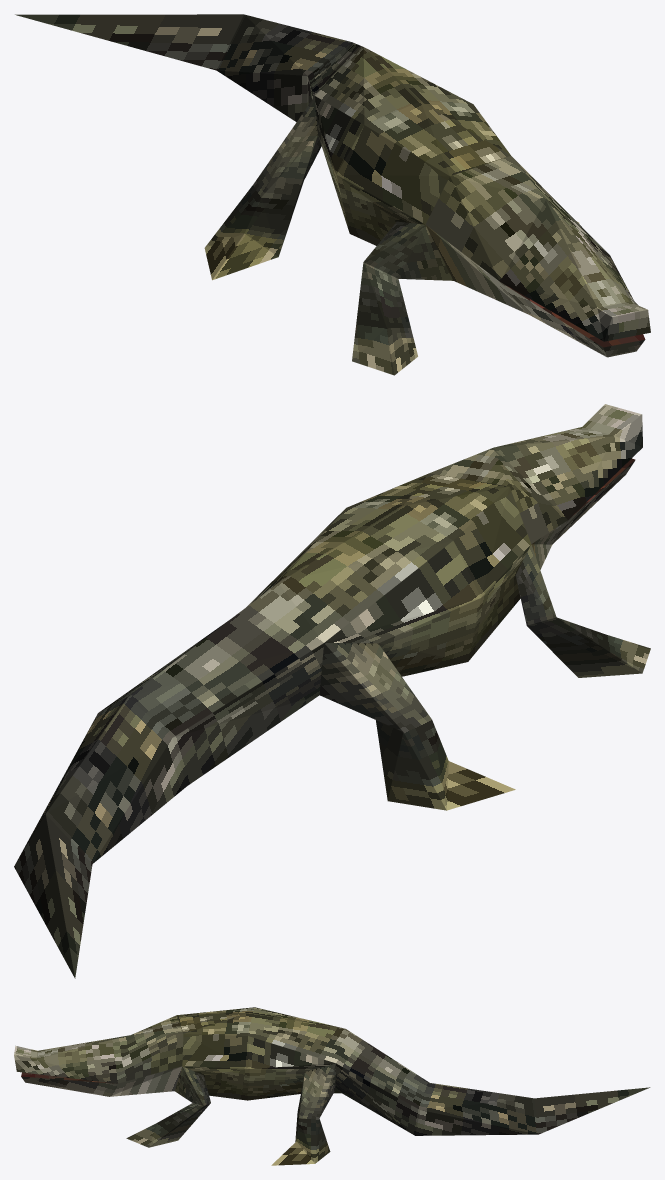
The model's file is crocodile_base.glb.
3 renders of one model, top to bottom at view 1: azimuth 30°, elevation 25°; view 2: azimuth 150°, elevation 25°; view 3: azimuth 270°, elevation 25°, orthographic. The views are drawn at different scales.
Visible parts, largest first — view 1: MeshRoot; view 2: MeshRoot; view 3: MeshRoot.
Boxes of the visible parts, box(x1,y1,x2,y2) form: MeshRoot: box(15, 14, 650, 375); MeshRoot: box(14, 404, 650, 978); MeshRoot: box(14, 1007, 650, 1165).
Bounding box in the file's own units: 1.23 × 0.6318 × 3.55.
Materials: 1 (1 with a texture image).
